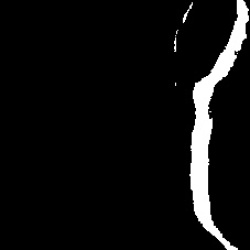crack: (189, 2, 248, 247), (172, 2, 195, 55)
pinhole: (171, 79, 180, 90)
